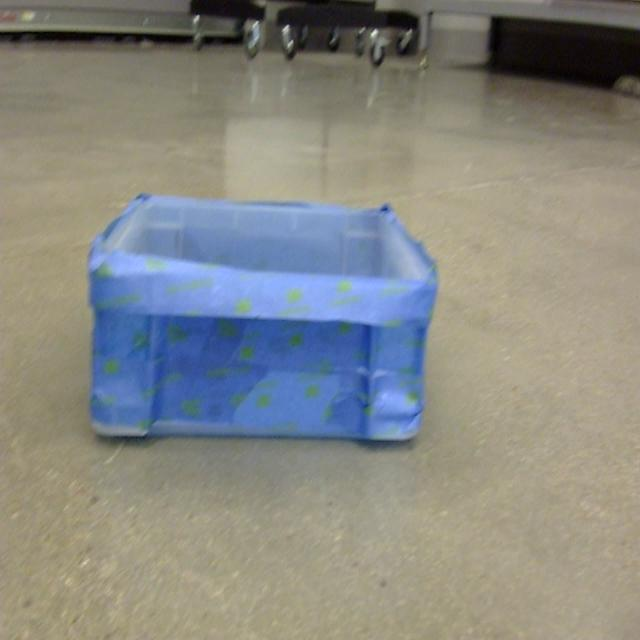bucket: (85, 194, 439, 447)
